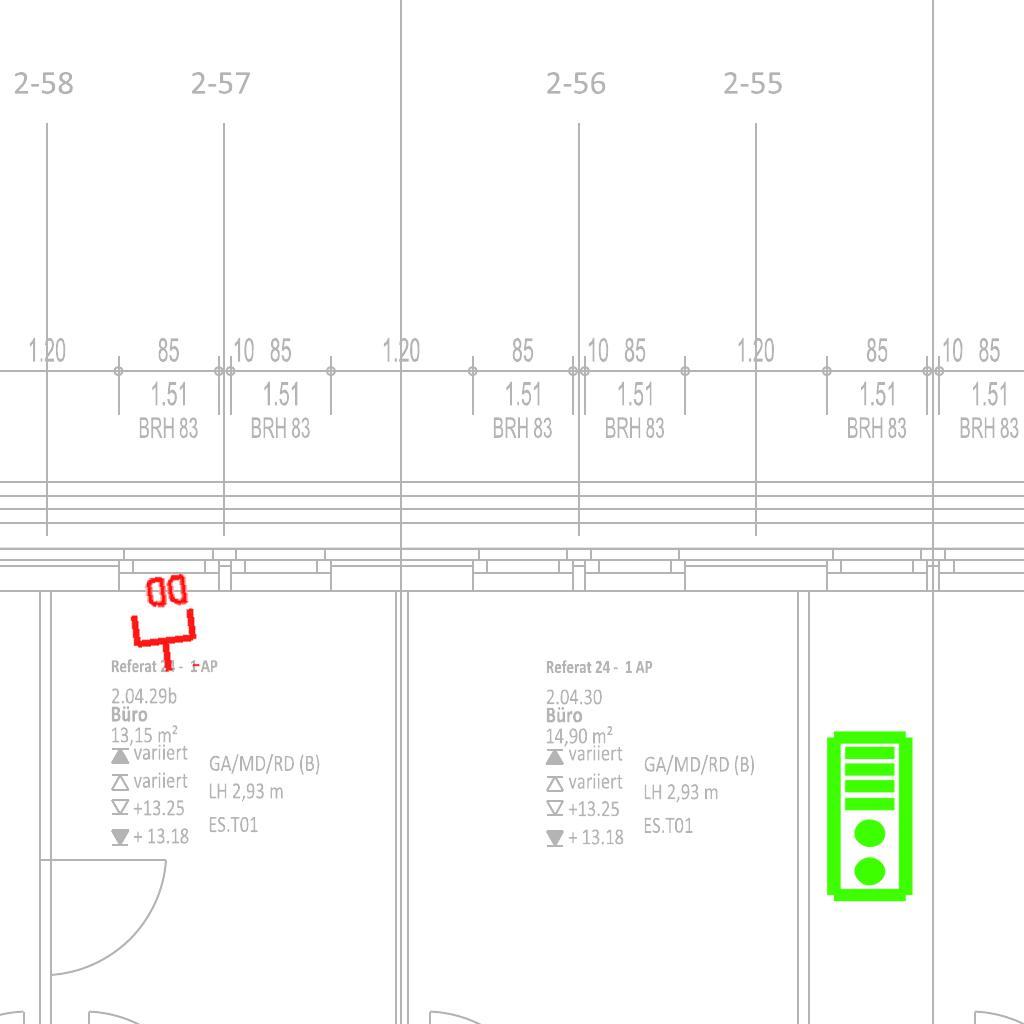Datenanschluss_zweifach: (120, 568, 203, 679)
Gegensprechanlage_mit_Video: (824, 729, 919, 905)
